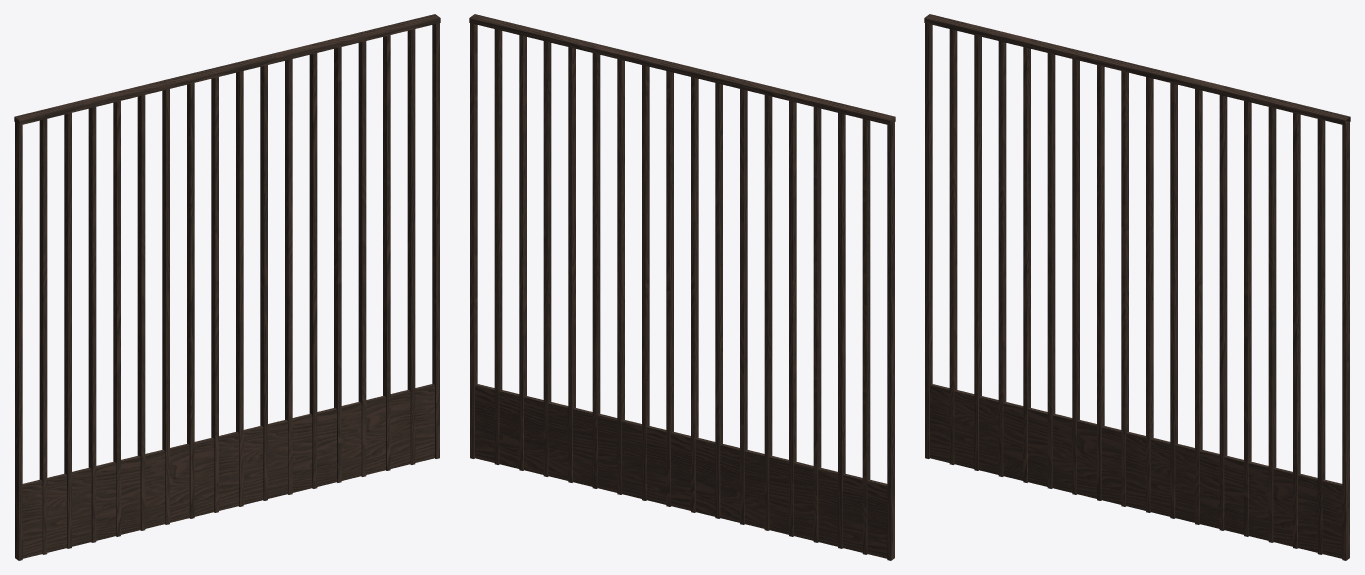
File: ladder_012.fbx
The picture shows the model from 3 angles, left to right: view 1: azimuth 30°, elevation 25°; view 2: azimuth 150°, elevation 25°; view 3: azimuth 330°, elevation 25°; orthographic projection.
Visible parts, largest first — view 1: ladder_012; view 2: ladder_012; view 3: ladder_012.
Part boxes in pixels (left/top/right/bottom): ladder_012: left=14, top=14, right=440, bottom=560; ladder_012: left=469, top=14, right=895, bottom=560; ladder_012: left=924, top=14, right=1350, bottom=560.
Size of the model in its own units: 400 by 8.98 by 400.
